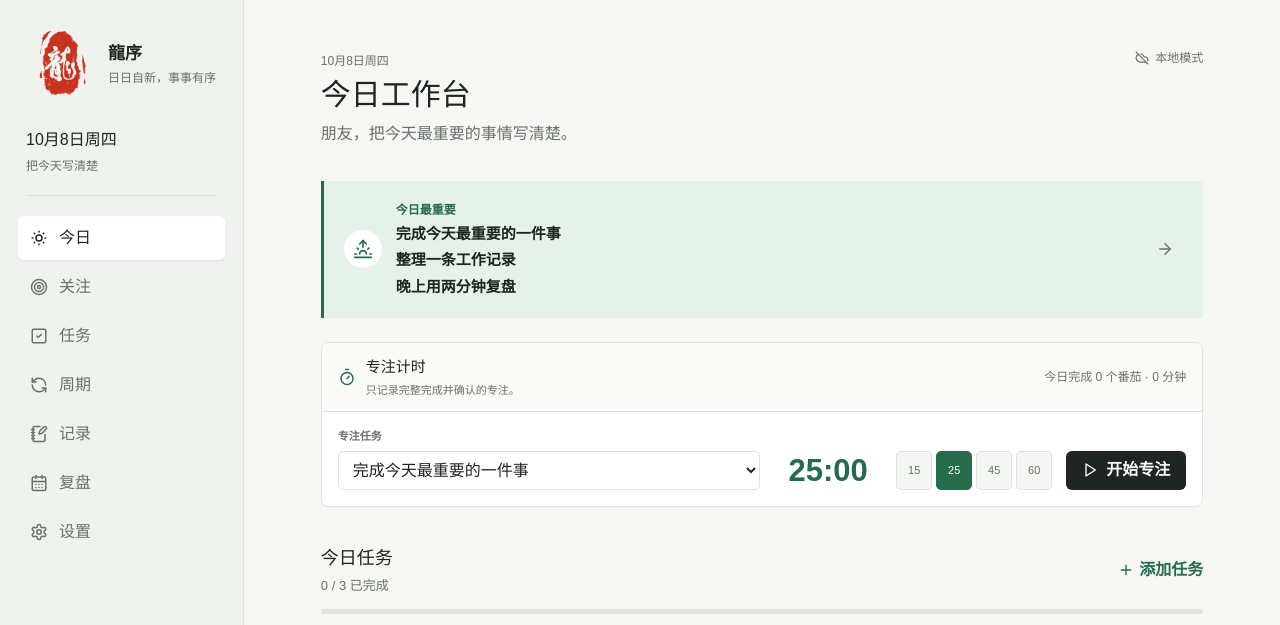
Test: workbench navigation › navigates among the seven workbench views
Expected: the heading "今日工作台" is shown, [321,78,471,111]
Click the button "关注" at x=122, y=287, box [18,265,225,309]
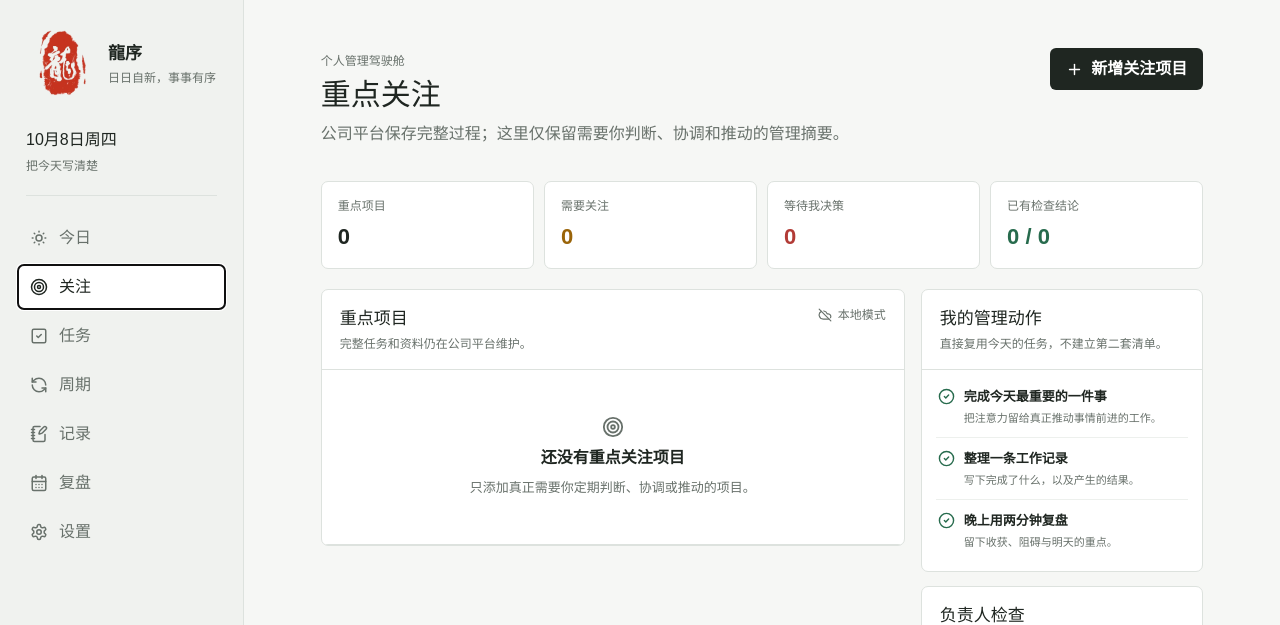
Result: the heading "重点关注" is shown at [321,78,441,111]
Click the button "任务" at x=122, y=336, box [18,314,225,358]
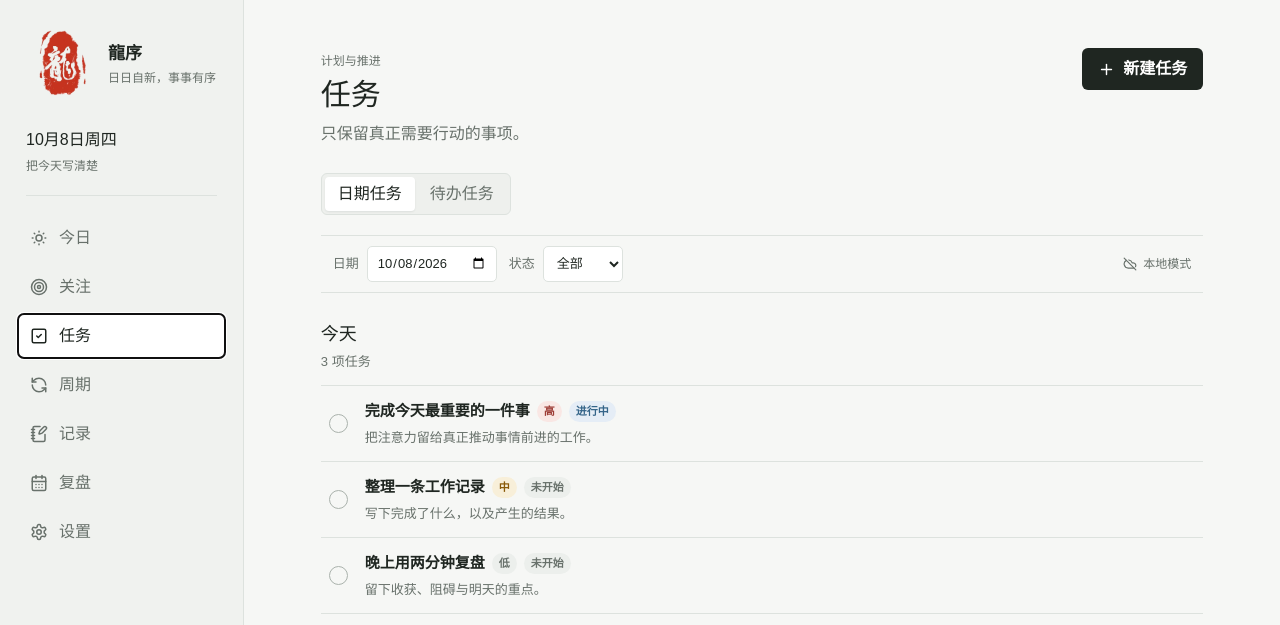
Result: the heading "任务" is shown at [321,78,381,111]
Click the button "周期" at x=122, y=385, box [18,363,225,407]
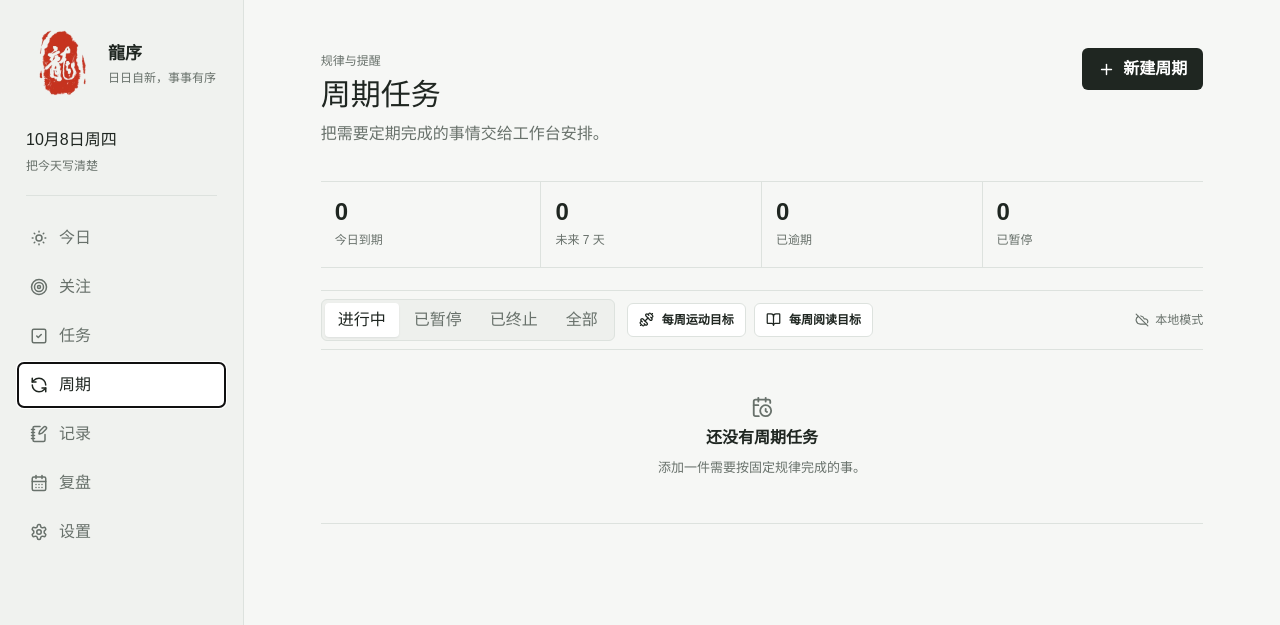
Result: the heading "周期任务" is shown at [321,78,441,111]
Click the button "记录" at x=122, y=434, box [18,412,225,456]
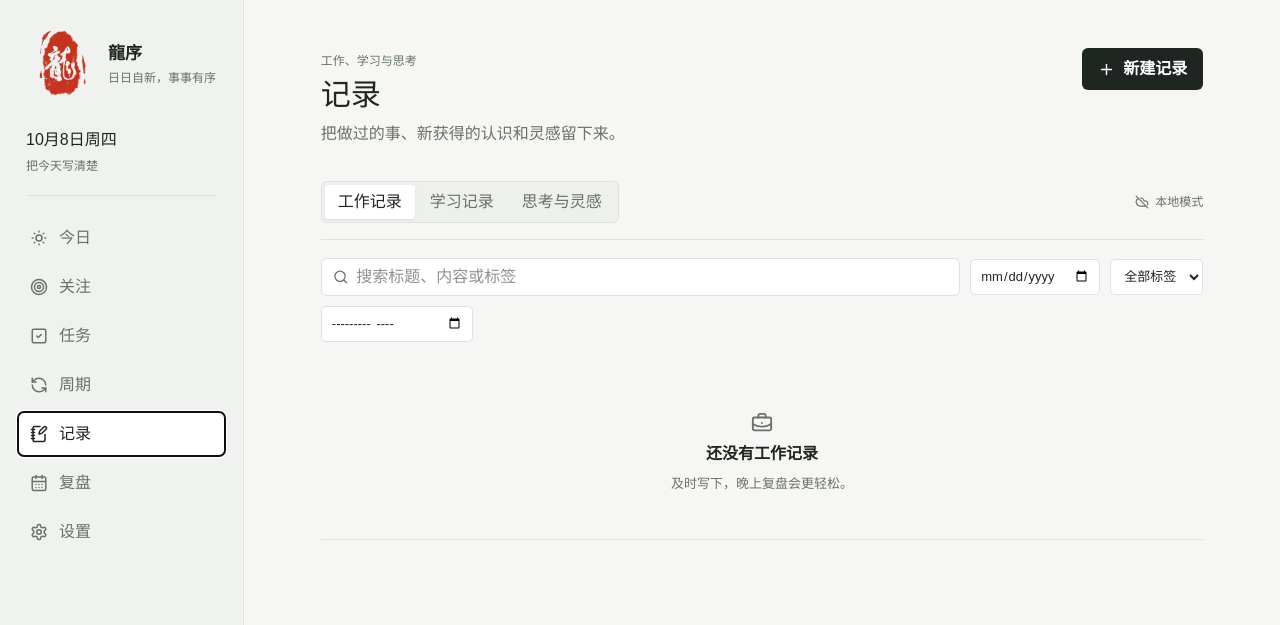
Result: the heading "记录" is shown at [321,78,381,111]
Click the button "复盘" at x=122, y=483, box [18,461,225,505]
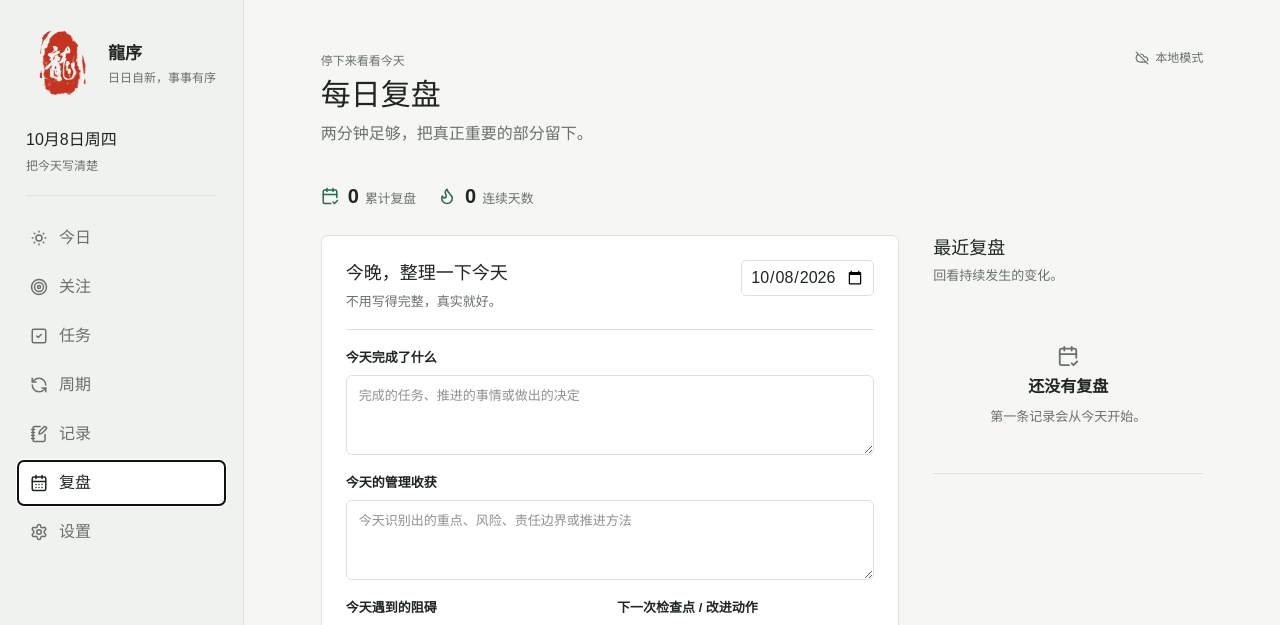
Result: the heading "每日复盘" is shown at [321,78,441,111]
Click the button "设置" at x=122, y=532, box [18,510,225,554]
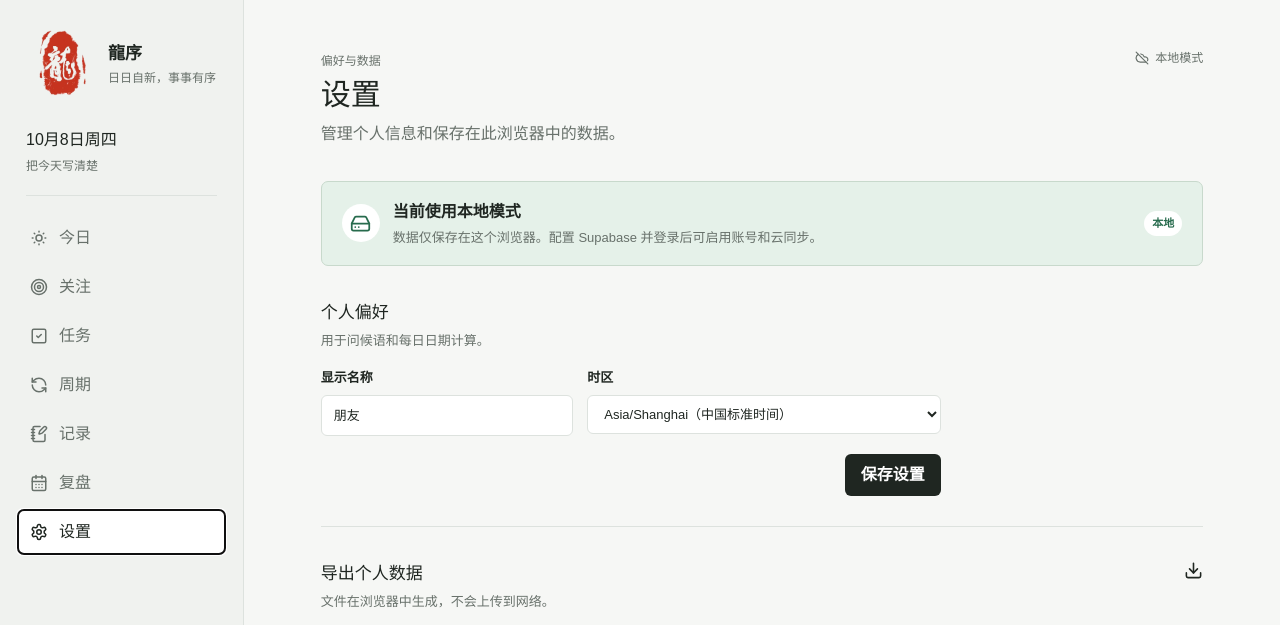
Result: the heading "设置" is shown at [321,78,381,111]
